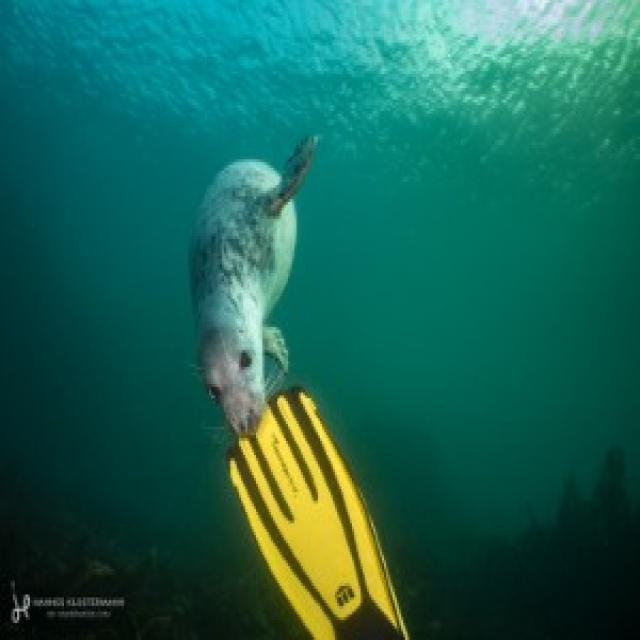Seal: (169, 135, 326, 452)
